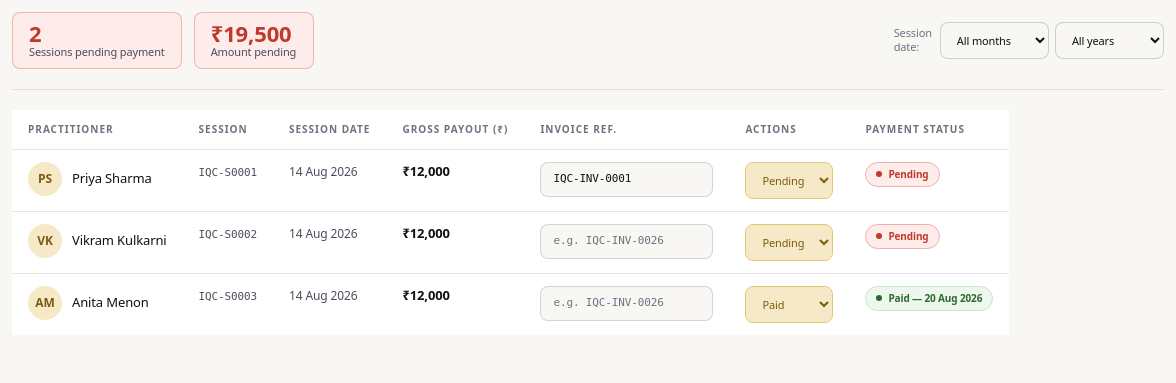
it: PayoutsPanel — a refused payout must not look paid › puts the control back and says why when the server refuses
The width and height of the screenshot is (1176, 383).
Step 1. Select "Paid" in the dropdown named "Payment status for" in the row of "VK" → (789, 242), box [745,224,833,261]
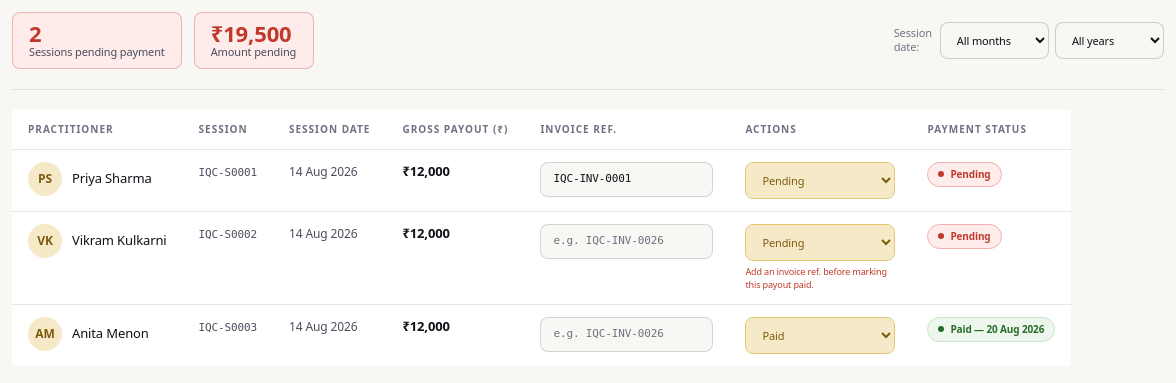
Check: the message shows "invoice ref", box [745,265,887,291]
